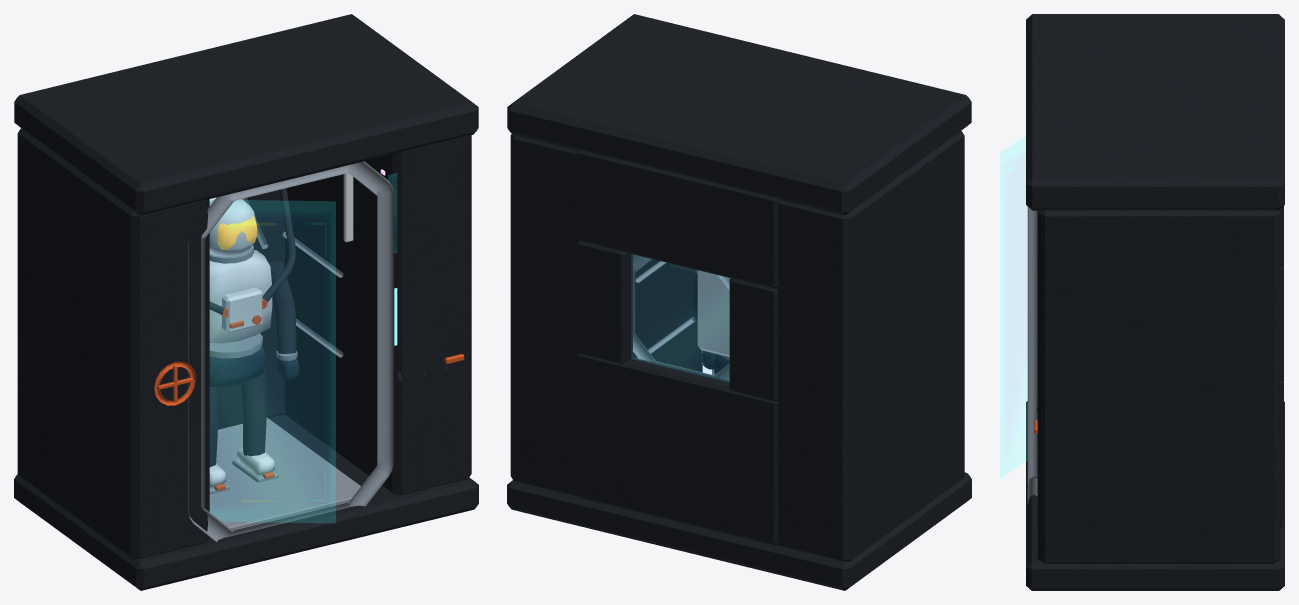
Rendered from eva_chamber_r1_01.glb.
3 renders of one model, left to right at view 1: azimuth 30°, elevation 25°; view 2: azimuth 150°, elevation 25°; view 3: azimuth 270°, elevation 25°, orthographic.
Parts seen in each view (by area): view 1: EVA01_OctagonalGunmetalPressureHull, EVA01_TranslucentAirlockDoorAndHood, EVA01_MachinedGantryAndBootGrate, EVA01_WhiteSuitArmorAndTanks, EVA01_CharcoalSleevesAndUmbilicalHoses, EVA01_OrbitalNavySuitJoints, EVA01_SignalOrangeWheelAndValves, EVA01_GoldIridiumHelmetVisors; view 2: EVA01_OctagonalGunmetalPressureHull, EVA01_TranslucentAirlockDoorAndHood, EVA01_WhiteSuitArmorAndTanks, EVA01_MachinedGantryAndBootGrate; view 3: EVA01_OctagonalGunmetalPressureHull, EVA01_TranslucentAirlockDoorAndHood, EVA01_MachinedGantryAndBootGrate.
Boxes of the visible parts, box(x1,y1,x2,y2) form: EVA01_OctagonalGunmetalPressureHull: box(14, 14, 478, 590); EVA01_TranslucentAirlockDoorAndHood: box(210, 173, 396, 522); EVA01_MachinedGantryAndBootGrate: box(188, 161, 393, 542); EVA01_WhiteSuitArmorAndTanks: box(209, 173, 353, 487); EVA01_CharcoalSleevesAndUmbilicalHoses: box(209, 188, 447, 466); EVA01_OrbitalNavySuitJoints: box(209, 346, 299, 386); EVA01_SignalOrangeWheelAndValves: box(154, 299, 464, 491); EVA01_GoldIridiumHelmetVisors: box(217, 216, 257, 249); EVA01_OctagonalGunmetalPressureHull: box(507, 14, 971, 590); EVA01_TranslucentAirlockDoorAndHood: box(632, 255, 729, 381); EVA01_WhiteSuitArmorAndTanks: box(697, 270, 729, 356); EVA01_MachinedGantryAndBootGrate: box(632, 254, 730, 380); EVA01_OctagonalGunmetalPressureHull: box(1026, 14, 1284, 590); EVA01_TranslucentAirlockDoorAndHood: box(1000, 136, 1026, 478); EVA01_MachinedGantryAndBootGrate: box(1027, 207, 1037, 504).
Bounding box in the file's own units: 2.25 × 2.55 × 1.6.
12 materials, 12 textured.
